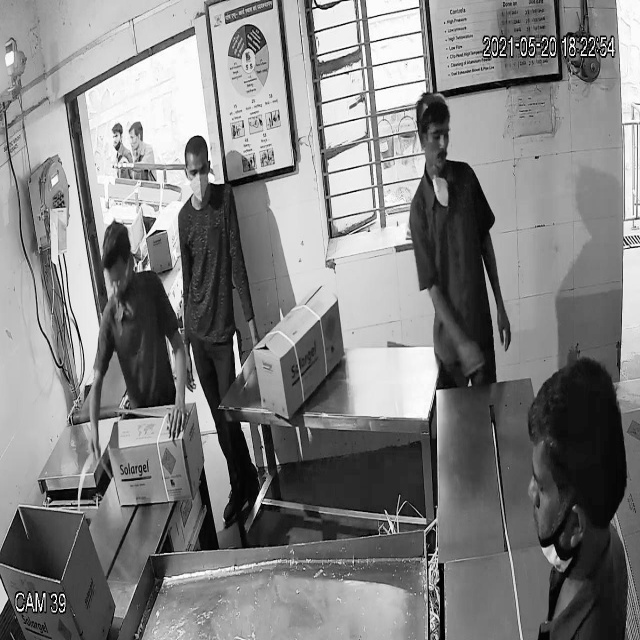Sin_gafas: (417, 121, 453, 151), (180, 156, 211, 182)
